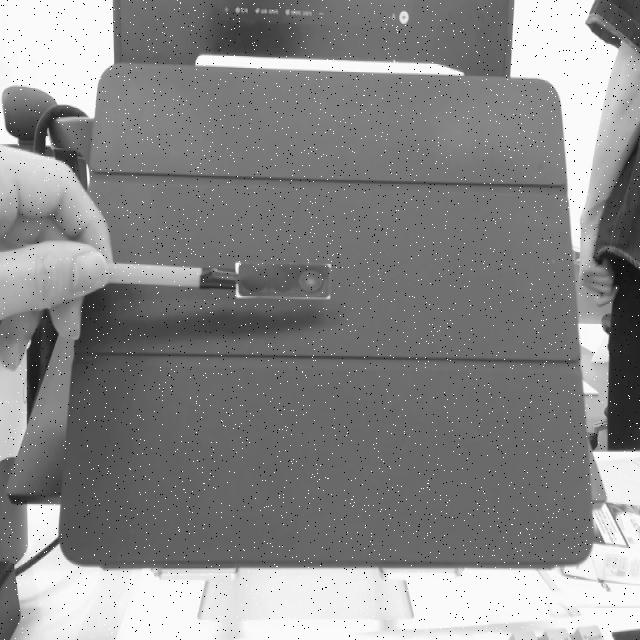traffic light: (222, 261, 333, 303)
